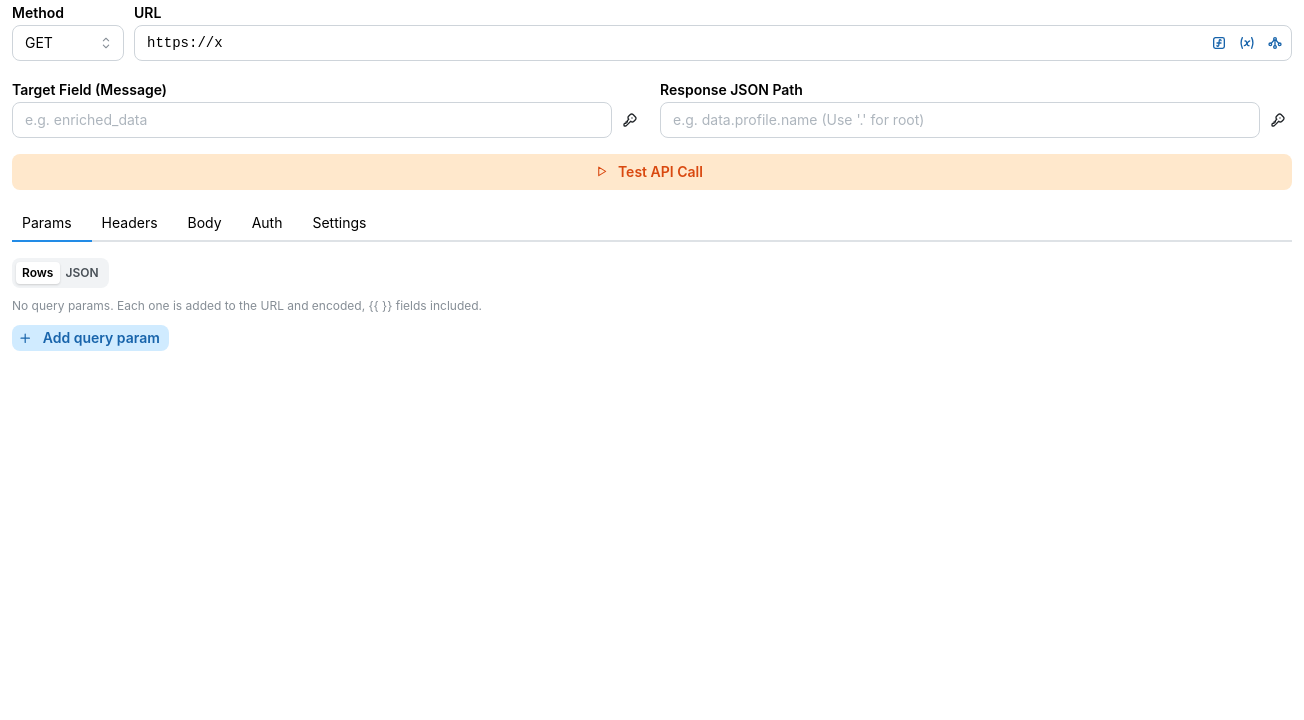
api_lookup miss policy and cache TTL › warns that the default policy writes nothing without a default value
Click the tab "Settings": point(339, 224) x1=302 y1=206 x2=376 y2=242
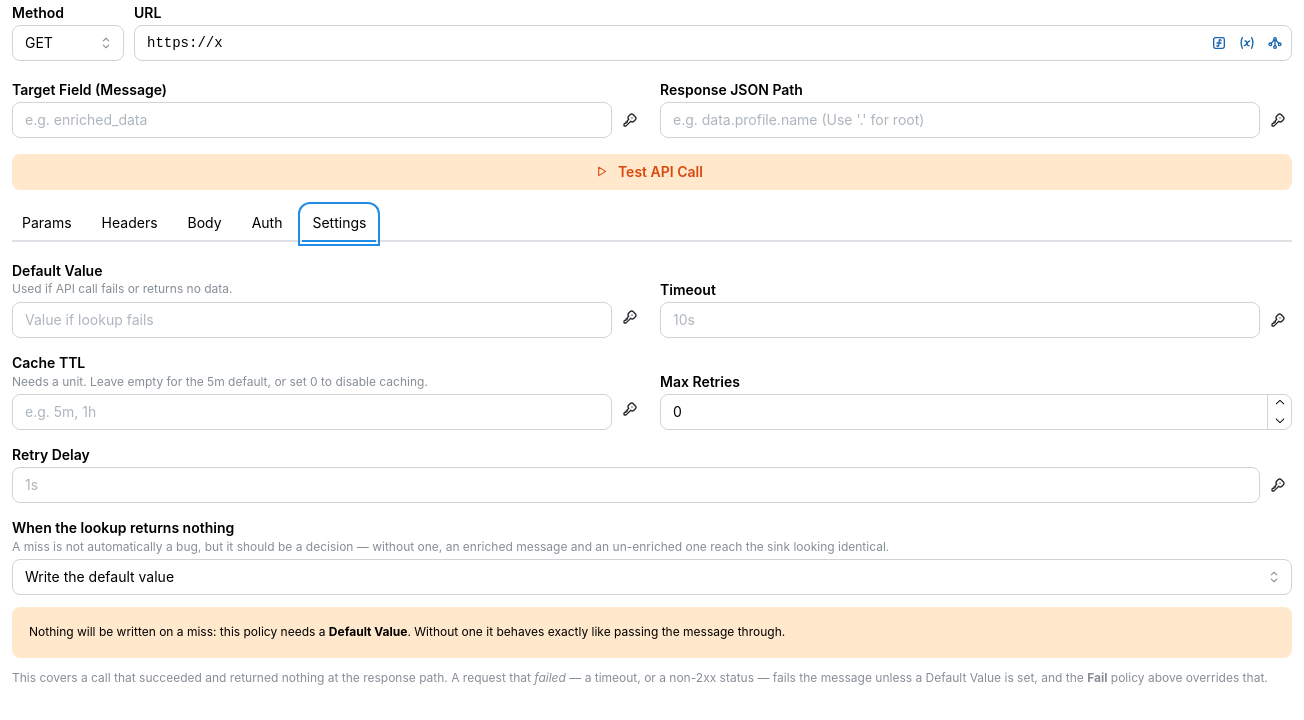
Expected: the message with test id "api-lookup-miss-warning" shows "Nothing will be written", x1=29 y1=624 x2=329 y2=639
